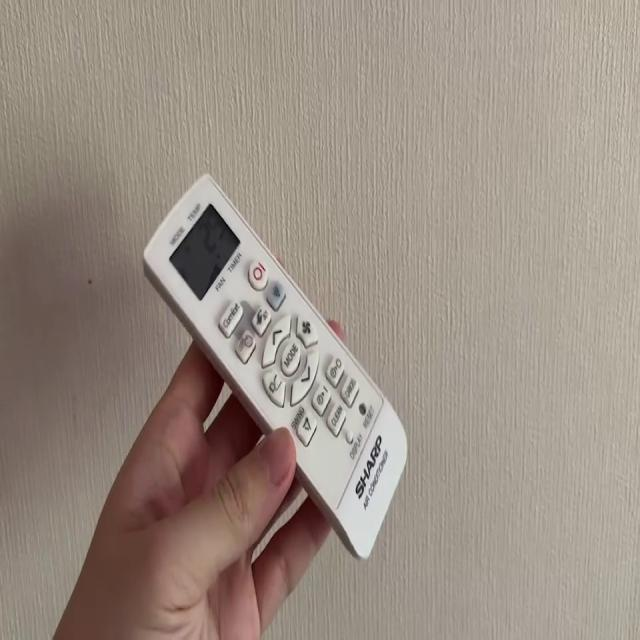remote: (143, 176, 409, 562)
